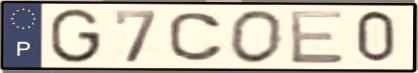0: (352, 8, 400, 68)
7: (112, 8, 160, 65)
C: (165, 10, 228, 63)
E: (287, 8, 347, 66)
G: (48, 7, 104, 66)
O: (226, 8, 286, 66)
